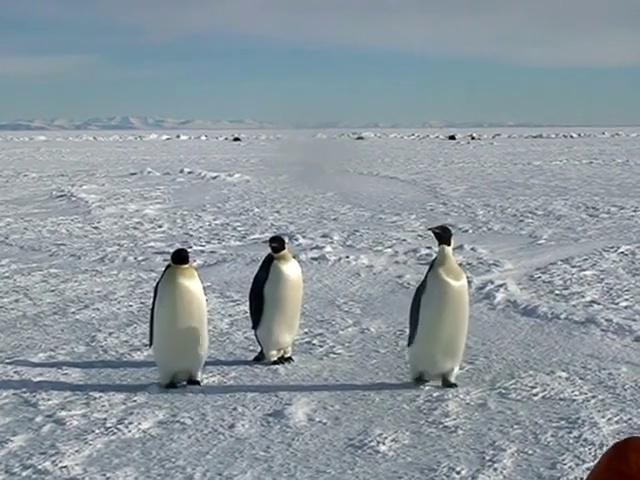animal: (408, 225, 468, 387)
